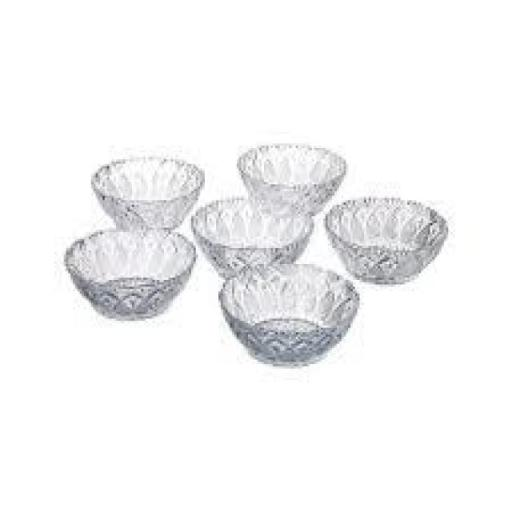glass: (218, 260, 361, 366), (64, 224, 198, 320), (192, 195, 318, 279), (324, 196, 446, 282), (89, 153, 208, 236), (236, 142, 350, 220)
